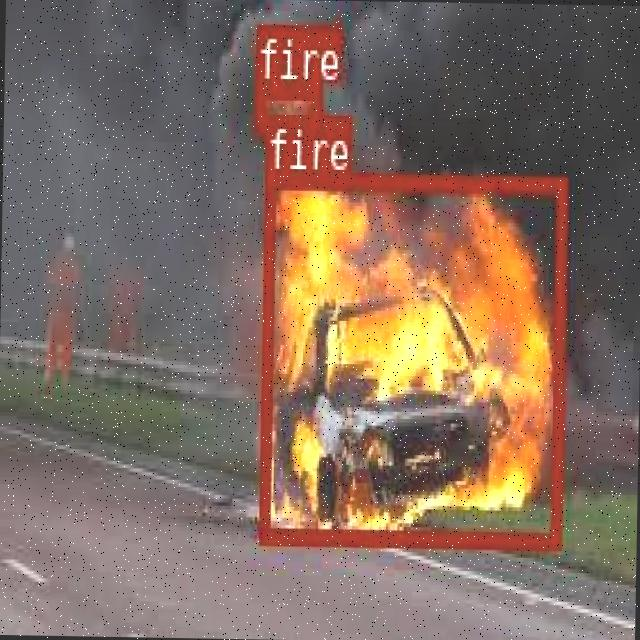fire: (256, 169, 564, 546), (253, 78, 320, 131)
